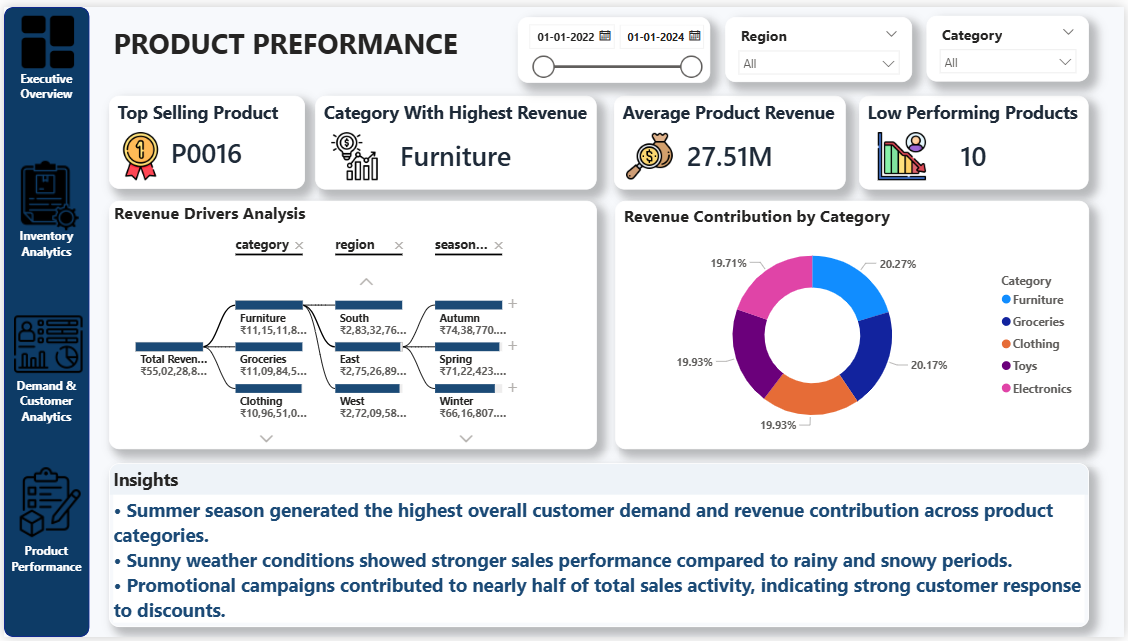

The dashboard page shown, as its layout file describes it:
{"tool":"powerbi","page":{"name":"Product Performance","canvas":[1280,720],"ordinal":3},"visuals":[{"type":"shape","title":"Sidebar","box":[0,0,97.5,720],"z":0},{"type":"textbox","box":[119.5,13.8,414.3,75.7],"z":1000},{"type":"cardVisual","title":"Top Selling Product","fields":{"Data":["Retail Inventory.Top Selling Product"]},"box":[120.1,102,223.8,106.2],"z":2000},{"type":"cardVisual","title":"Category With Highest Revenue","fields":{"Data":["Retail Inventory.Category With Highest Revenue"]},"box":[356.3,100.7,321.2,107.5],"z":3000},{"type":"cardVisual","title":"Average Product Revenue","fields":{"Data":["Retail Inventory.Average Product Revenue"]},"box":[697.6,100.7,265,107.5],"z":4000},{"type":"cardVisual","title":"Low Performing Products","fields":{"Data":["Retail Inventory.Low Performing Products"]},"box":[977.6,100.7,262.5,107.5],"z":5000},{"type":"slicer","fields":{"Values":["Retail Inventory.date"]},"box":[587.6,10.7,220,75],"z":6000},{"type":"slicer","fields":{"Values":["Retail Inventory.region"]},"box":[823.8,11.3,213.6,74.5],"z":7000},{"type":"slicer","fields":{"Values":["Retail Inventory.category"]},"box":[1053.8,10.5,185.7,75],"z":8000},{"type":"image","box":[128.8,143.5,55,55],"z":9000},{"type":"image","box":[372.6,143.2,55,55],"z":10000},{"type":"image","box":[998.8,143.2,55,55],"z":11000},{"type":"decompositionTreeVisual","title":"Revenue Drivers Analysis","fields":{"Analyze":["Retail Inventory.Total Revenue"],"ExplainBy":["Retail Inventory.category","Retail Inventory.region","Retail Inventory.seasonality","Retail Inventory.product_id","Retail Inventory.holiday_promotion","Retail Inventory.weather_condition"]},"box":[120.1,222,557.5,283.8],"z":12000},{"type":"donutChart","title":"Revenue Contribution by Category","fields":{"Category":["Retail Inventory.category"],"Y":["Retail Inventory.Total Revenue"]},"box":[698.8,222,541.2,283.8],"z":13000},{"type":"image","box":[710.1,143.2,55,55],"z":14000},{"type":"shape","title":"Insights","box":[119.8,521.2,1120,187.5],"z":15000},{"type":"textbox","box":[119.8,553.8,1120,166.2],"z":16000},{"type":"pageNavigator","box":[0,0,97.5,720],"z":17000},{"type":"image","box":[6.2,10,88.8,60],"z":18000},{"type":"image","box":[10,143.8,85,142.5],"z":19000},{"type":"image","box":[11.2,336.2,78.8,98.8],"z":20000},{"type":"image","box":[12.5,477.5,80,177.5],"z":21000}]}

Visuals, with their boxes in screenshot pixels (x1, y1, x2, y2), scaled from the page's 1280x720 canvas onto the 1128x641 screenshot:
"Sidebar" shape: [left=0, top=0, right=86, bottom=640]
textbox: [left=105, top=12, right=470, bottom=80]
"Top Selling Product" cardVisual: [left=106, top=91, right=303, bottom=185]
"Category With Highest Revenue" cardVisual: [left=314, top=90, right=597, bottom=185]
"Average Product Revenue" cardVisual: [left=615, top=90, right=848, bottom=185]
"Low Performing Products" cardVisual: [left=862, top=90, right=1093, bottom=185]
slicer - Retail Inventory.date: [left=518, top=10, right=712, bottom=76]
slicer - Retail Inventory.region: [left=726, top=10, right=914, bottom=76]
slicer - Retail Inventory.category: [left=929, top=9, right=1092, bottom=76]
image: [left=114, top=128, right=162, bottom=177]
image: [left=328, top=127, right=377, bottom=176]
image: [left=880, top=127, right=929, bottom=176]
"Revenue Drivers Analysis" decompositionTreeVisual: [left=106, top=198, right=597, bottom=450]
"Revenue Contribution by Category" donutChart: [left=616, top=198, right=1093, bottom=450]
image: [left=626, top=127, right=674, bottom=176]
"Insights" shape: [left=106, top=464, right=1093, bottom=631]
textbox: [left=106, top=493, right=1093, bottom=640]
pageNavigator: [left=0, top=0, right=86, bottom=640]
image: [left=5, top=9, right=84, bottom=62]
image: [left=9, top=128, right=84, bottom=255]
image: [left=10, top=299, right=79, bottom=387]
image: [left=11, top=425, right=82, bottom=583]
